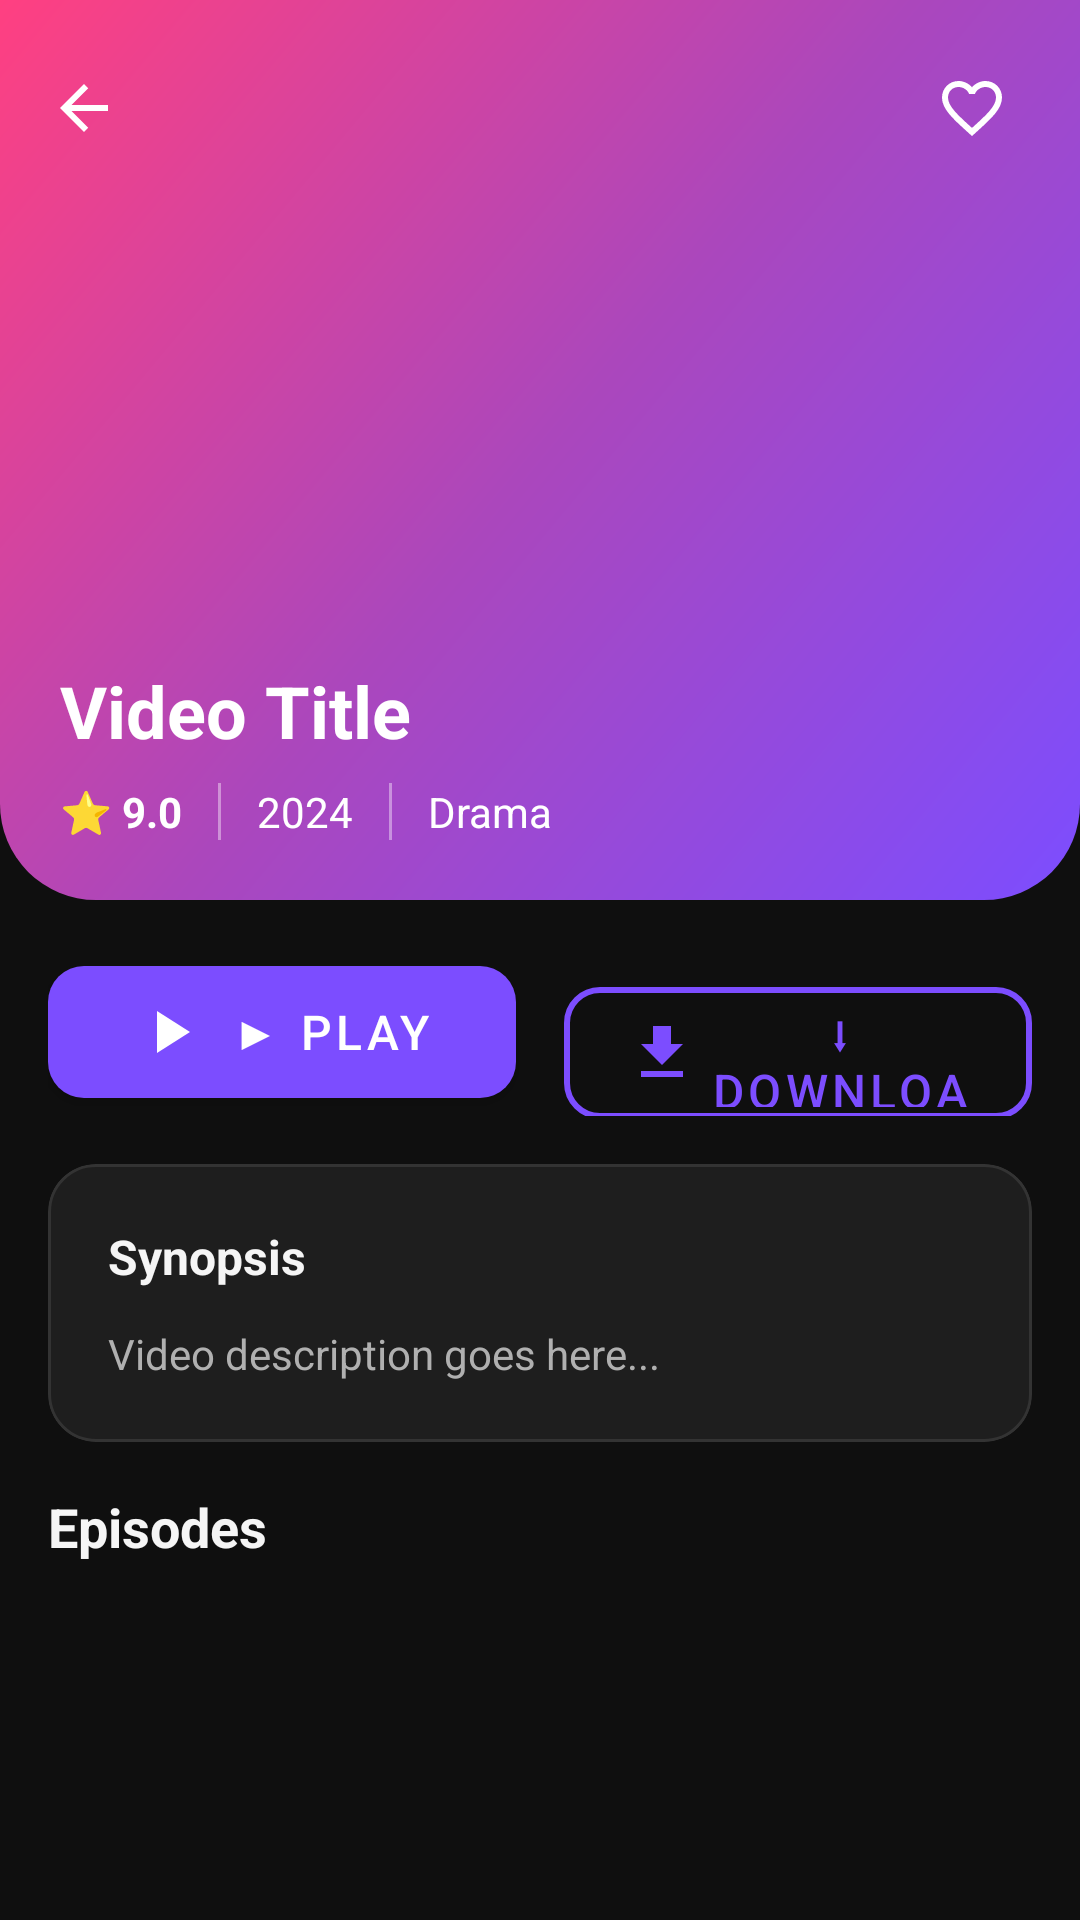

Icons on this 1080×1920 Android screen, each with its box as [left=x1, top=y1, right=x2, bottom=y2]:
Back: [left=60, top=84, right=108, bottom=132]
Favorite: [left=942, top=81, right=1002, bottom=136]
